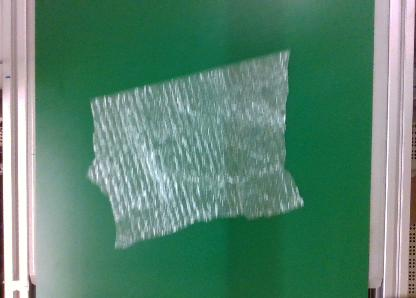Others: (84, 48, 304, 248)
